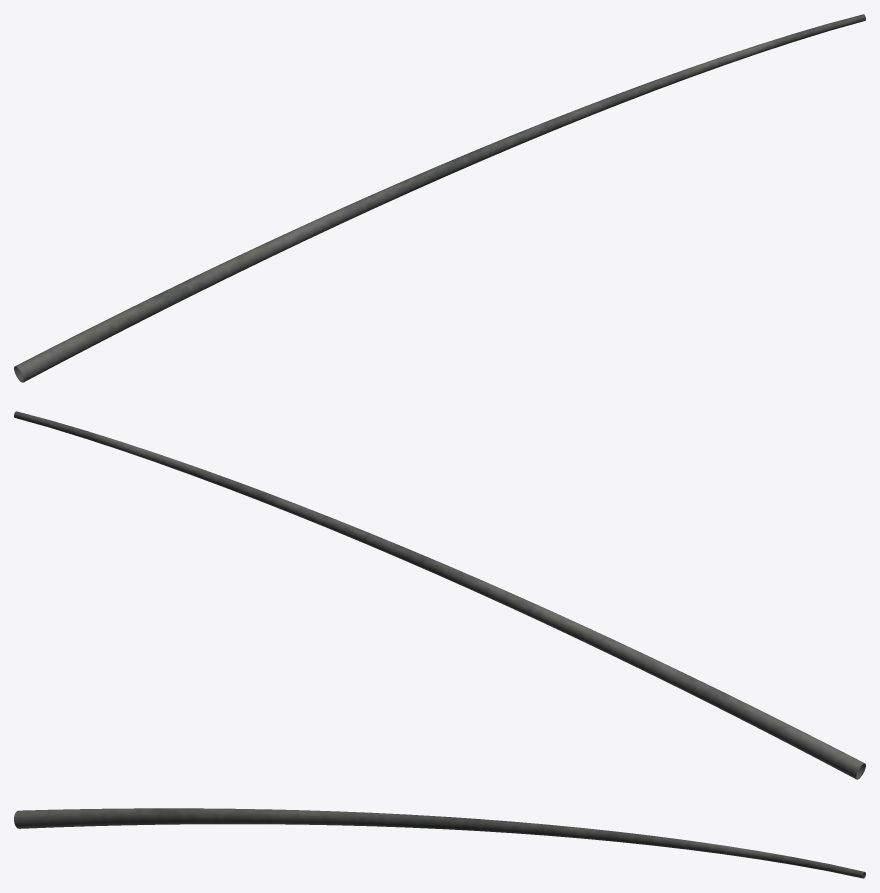
Rendered from armRise6-v1.glb.
3 views of the same model, one above another, from view 1: azimuth 30°, elevation 25°; view 2: azimuth 150°, elevation 25°; view 3: azimuth 330°, elevation 25° (orthographic).
Parts seen in each view (by area): view 1: armRise6-v1; view 2: armRise6-v1; view 3: armRise6-v1.
Boxes of the visible parts, x1,y1,x2,y2 form: armRise6-v1: (14,14,865,382); armRise6-v1: (14,411,865,779); armRise6-v1: (14,808,865,878).
Bounding box in the file's own units: 13.75 × 2.51 × 0.2572.
Materials: 1 (1 with a texture image).
